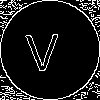V: (25, 25, 59, 71)
